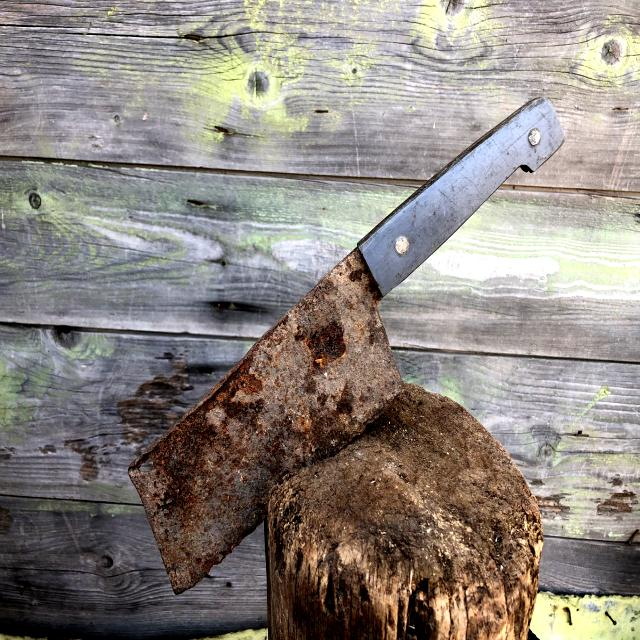cleaver: (126, 99, 566, 599)
